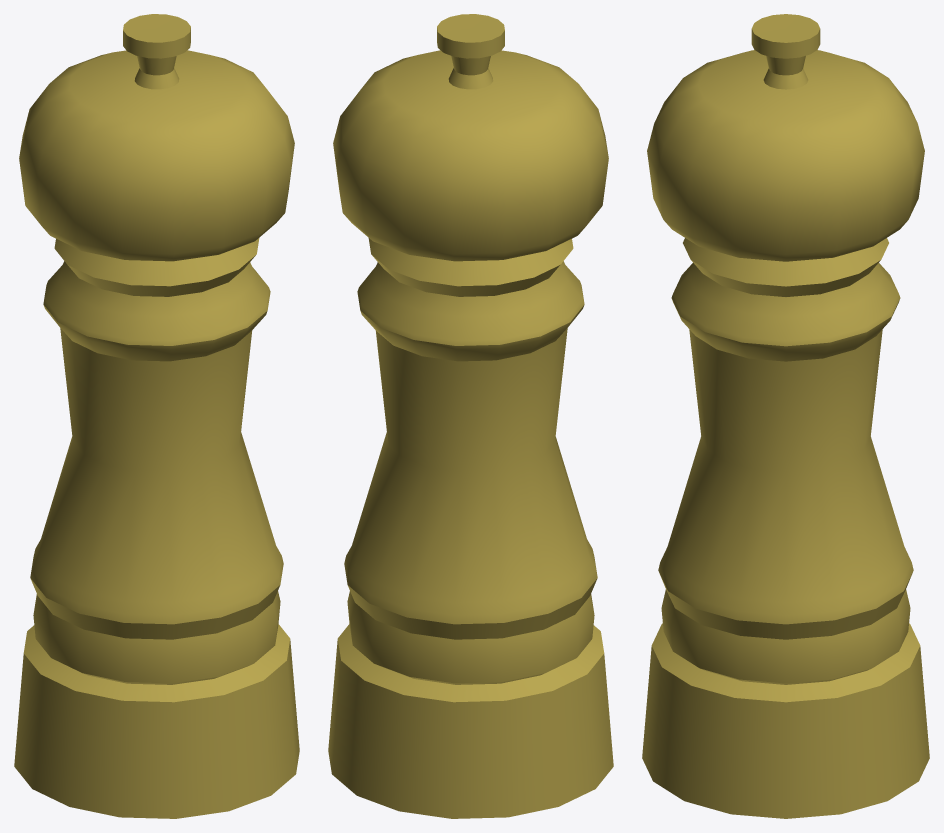
The model's file is SaltShaker.fbx.
3 renders of one model, left to right at view 1: azimuth 30°, elevation 25°; view 2: azimuth 150°, elevation 25°; view 3: azimuth 270°, elevation 25°, orthographic.
Visible parts, largest first — view 1: Salt_low; view 2: Salt_low; view 3: Salt_low.
Boxes of the visible parts, <box> form: Salt_low: <box>14,14,299,818</box>; Salt_low: <box>328,14,613,818</box>; Salt_low: <box>642,14,929,818</box>.
Size of the model in its own units: 138 by 387 by 138.
